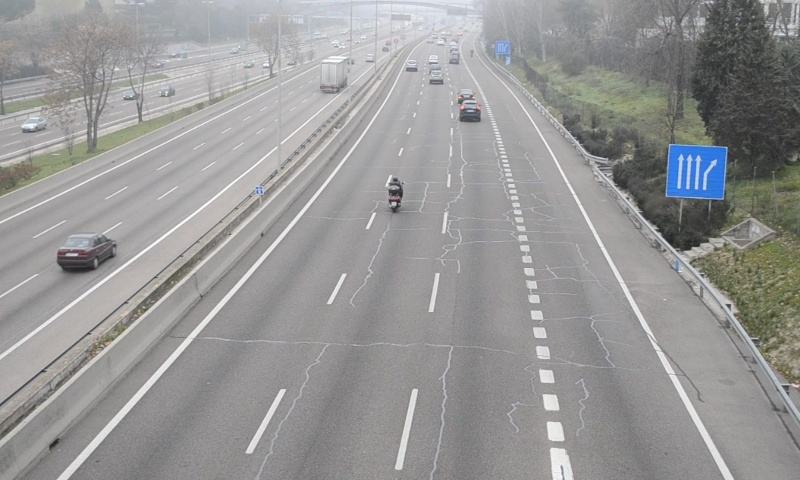car: (459, 100, 481, 121)
motorcycle: (387, 175, 404, 213)
